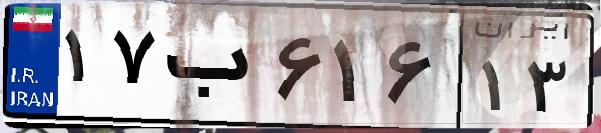1: (330, 28, 385, 110), (57, 26, 110, 100), (475, 38, 525, 113)
3: (525, 38, 570, 115)
6: (270, 28, 330, 110), (385, 28, 445, 110)
7: (110, 28, 158, 98)
ب: (158, 20, 270, 120)
